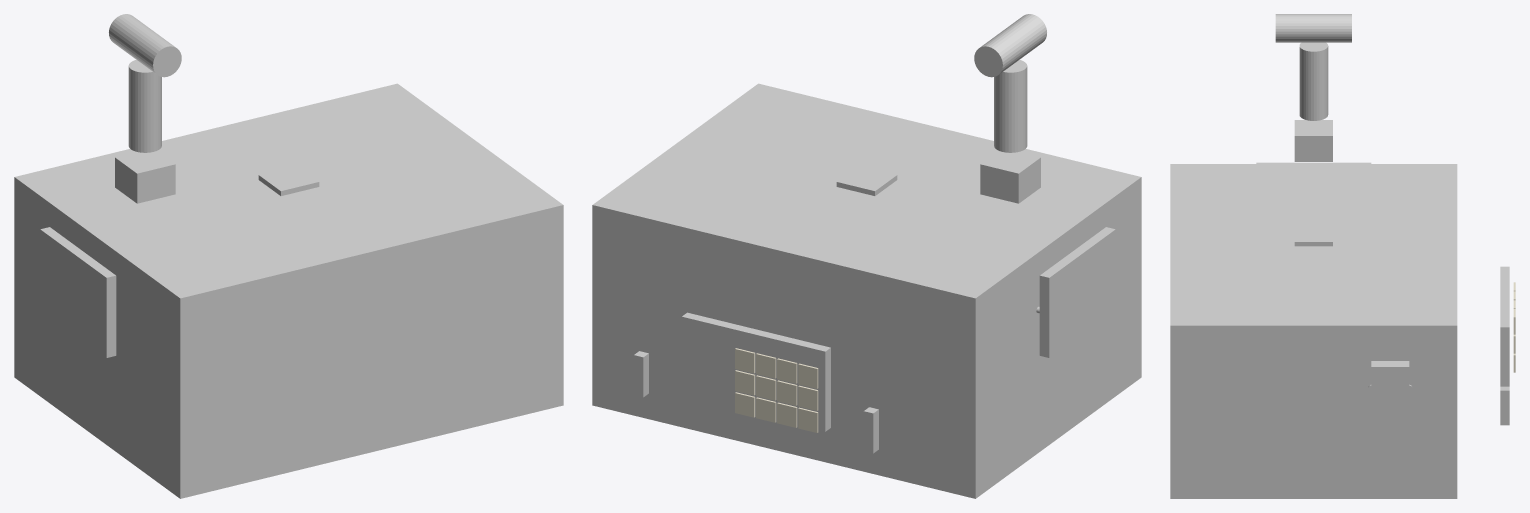
The model's file is mengil.fbx.
3 renders of one model, left to right at view 1: azimuth 30°, elevation 25°; view 2: azimuth 150°, elevation 25°; view 3: azimuth 270°, elevation 25°, orthographic. The views are drawn at different scales.
Visible parts, largest first — view 1: KaroDryerMachine; view 2: KaroDryerMachine; view 3: KaroDryerMachine.
Boxes of the visible parts, box(x1,y1,x2,y2) form: KaroDryerMachine: box(14, 14, 563, 498); KaroDryerMachine: box(592, 14, 1141, 498); KaroDryerMachine: box(1170, 14, 1515, 498).
Size of the model in its own units: 4.53 by 3.95 by 3.61.
